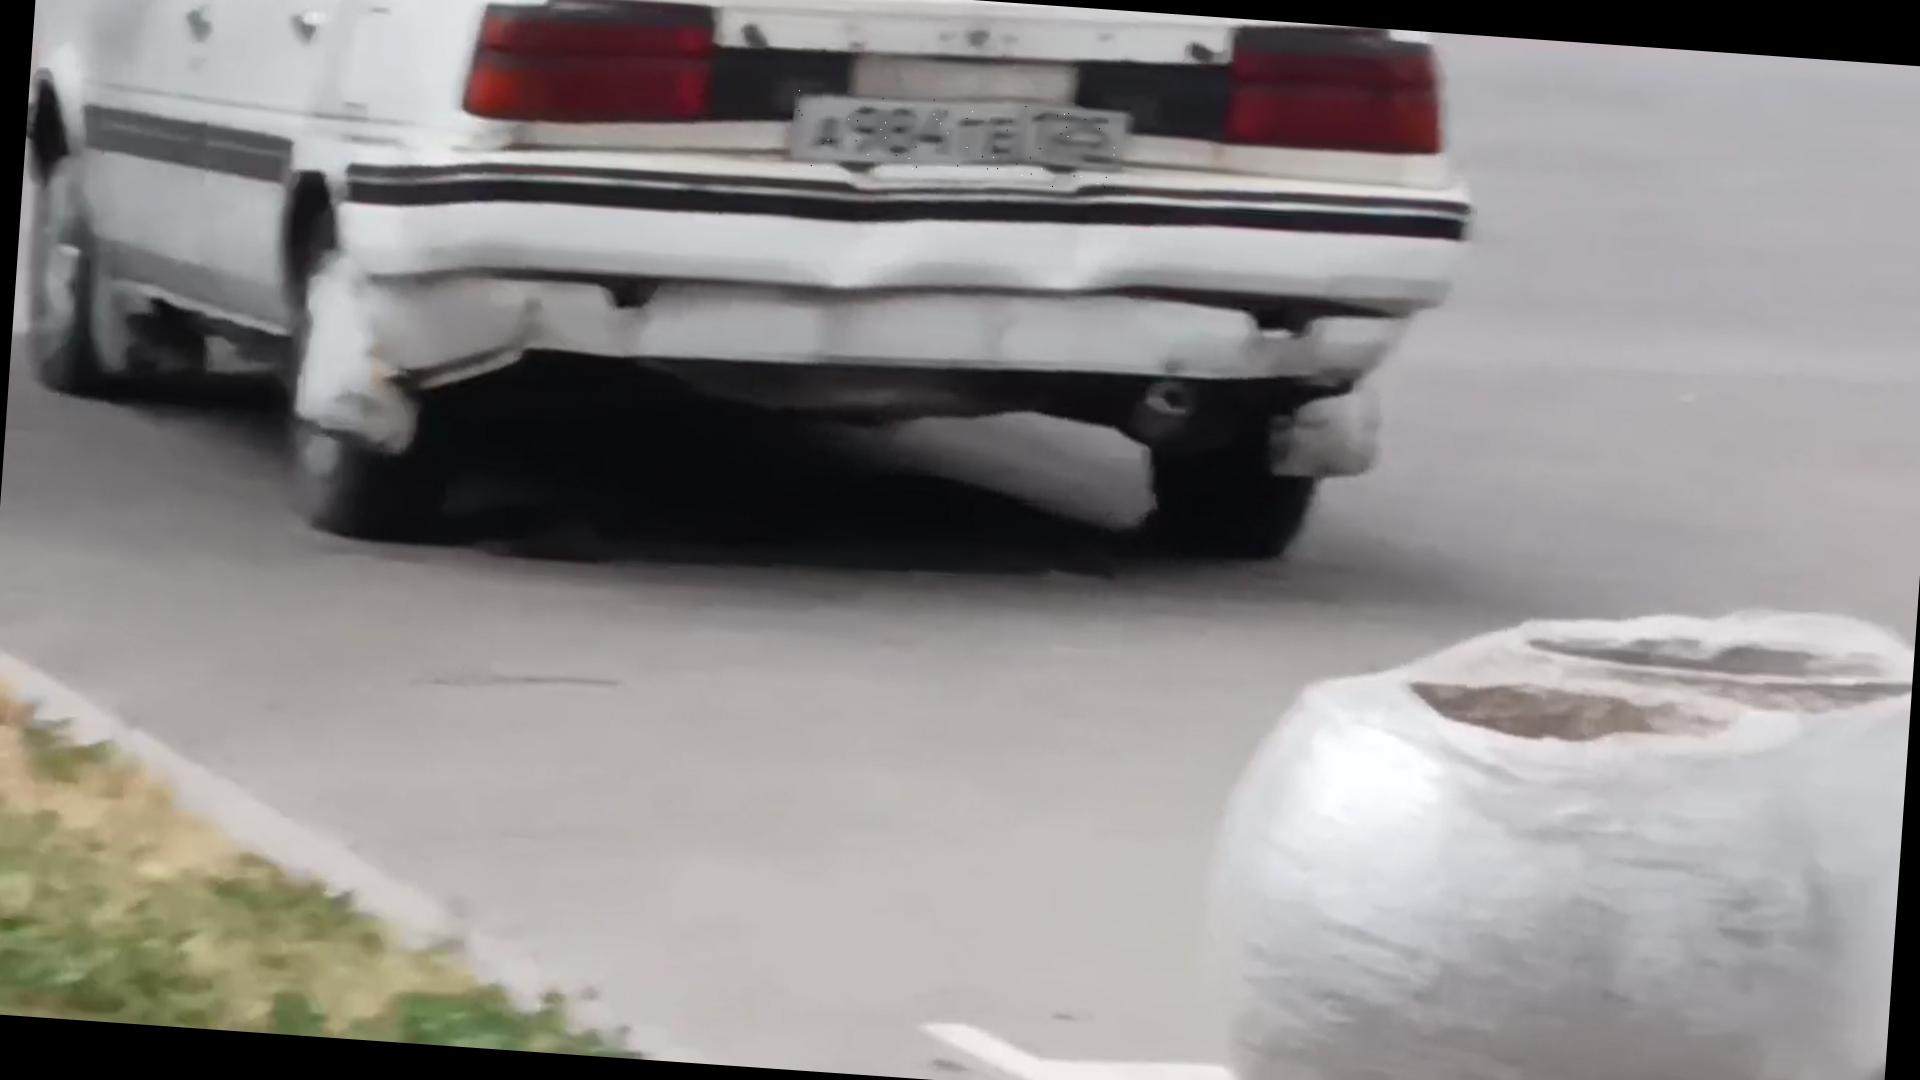plate: (791, 91, 1125, 194)
